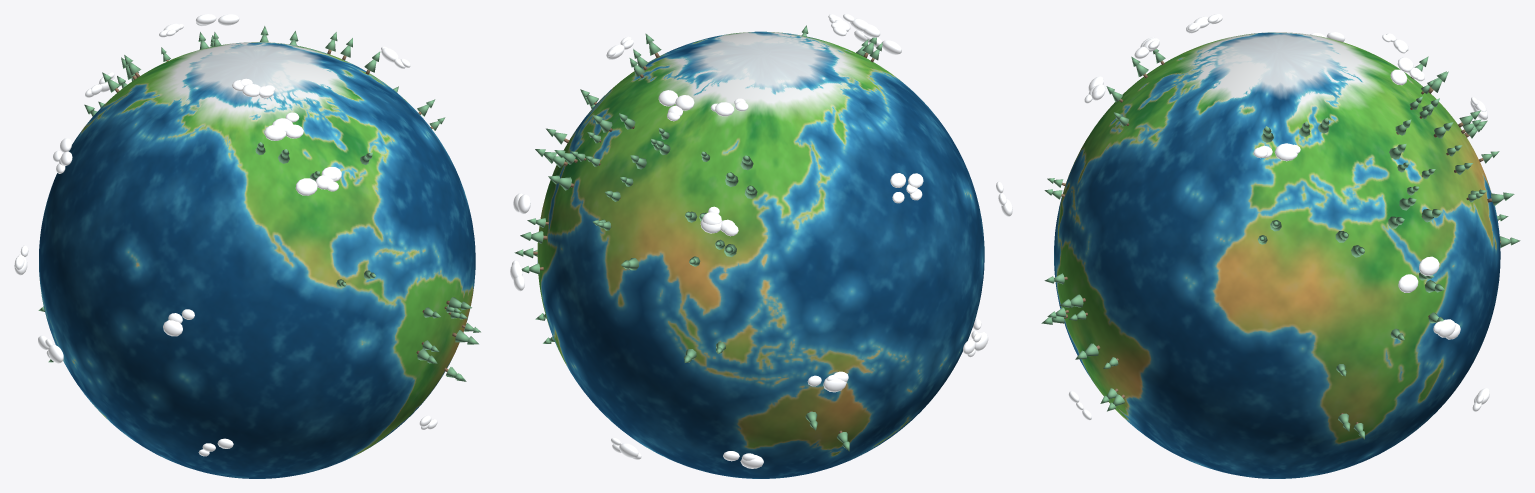
The model's file is earth-portfolio.glb.
3 renders of one model, left to right at view 1: azimuth 30°, elevation 25°; view 2: azimuth 150°, elevation 25°; view 3: azimuth 270°, elevation 25°, orthographic. The views are drawn at different scales.
Visible parts, largest first — view 1: Planet, Clouds, Trees; view 2: Planet, Clouds, Trees; view 3: Planet, Trees, Clouds.
Boxes of the visible parts, x1,y1,x2,y2 form: Planet: (39, 42, 475, 478); Clouds: (14, 14, 437, 456); Trees: (38, 26, 480, 381); Planet: (537, 31, 984, 478); Clouds: (510, 14, 1012, 468); Trees: (514, 25, 882, 451); Planet: (1054, 32, 1500, 478); Trees: (1041, 49, 1520, 439); Clouds: (1068, 14, 1489, 420).
Size of the model in its own units: 4.34 by 4.16 by 4.29.
Materials: 4 (1 with a texture image).
